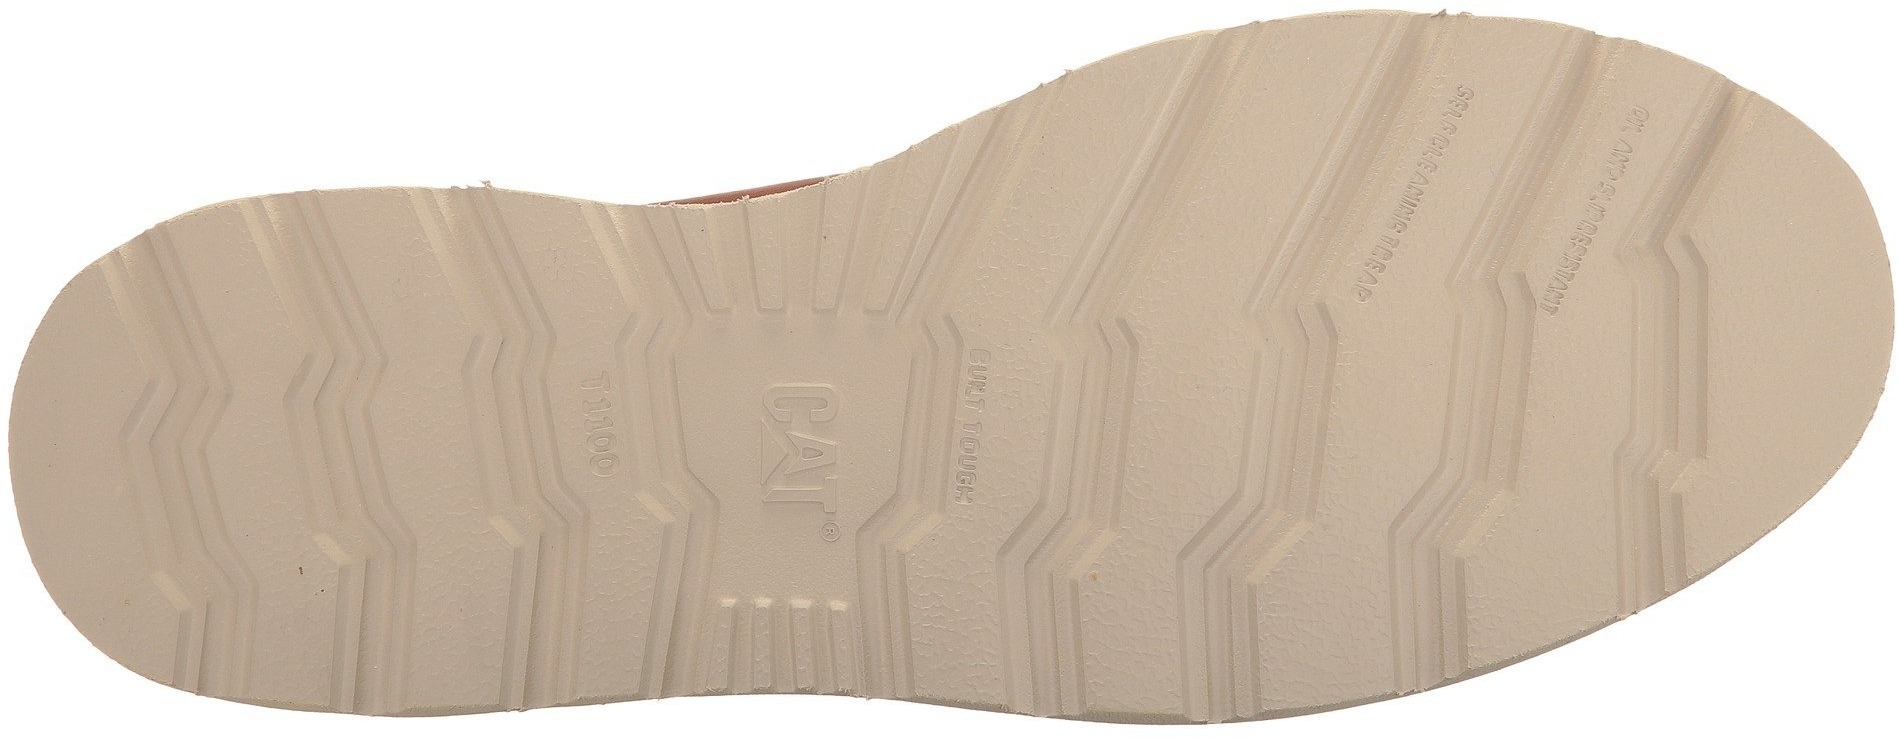other: (1708, 240, 1874, 425)
text: (744, 340, 899, 508), (964, 375, 1036, 479), (556, 371, 638, 457), (1402, 151, 1469, 233)
